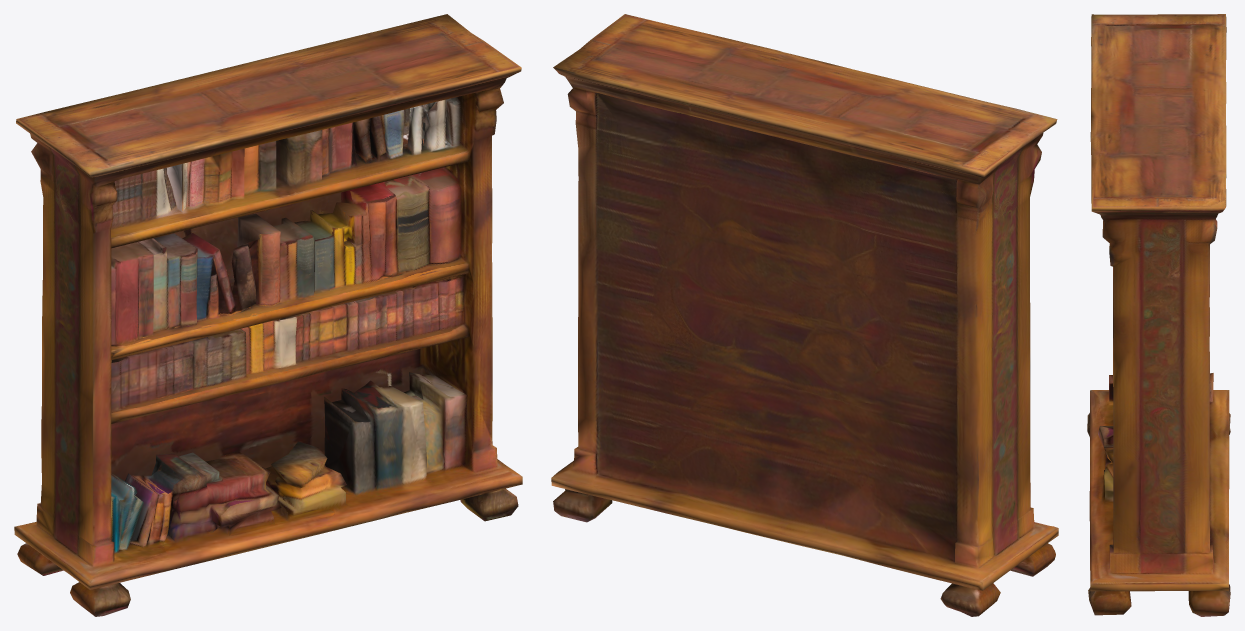
The model's file is meshy_model_1758340956.56275.glb.
3 views of the same model, side by side, from view 1: azimuth 30°, elevation 25°; view 2: azimuth 150°, elevation 25°; view 3: azimuth 270°, elevation 25° (orthographic). The views are drawn at different scales.
Bounding box in the file's own units: 2 × 2 × 0.625.
Materials: 1 (1 with a texture image).
